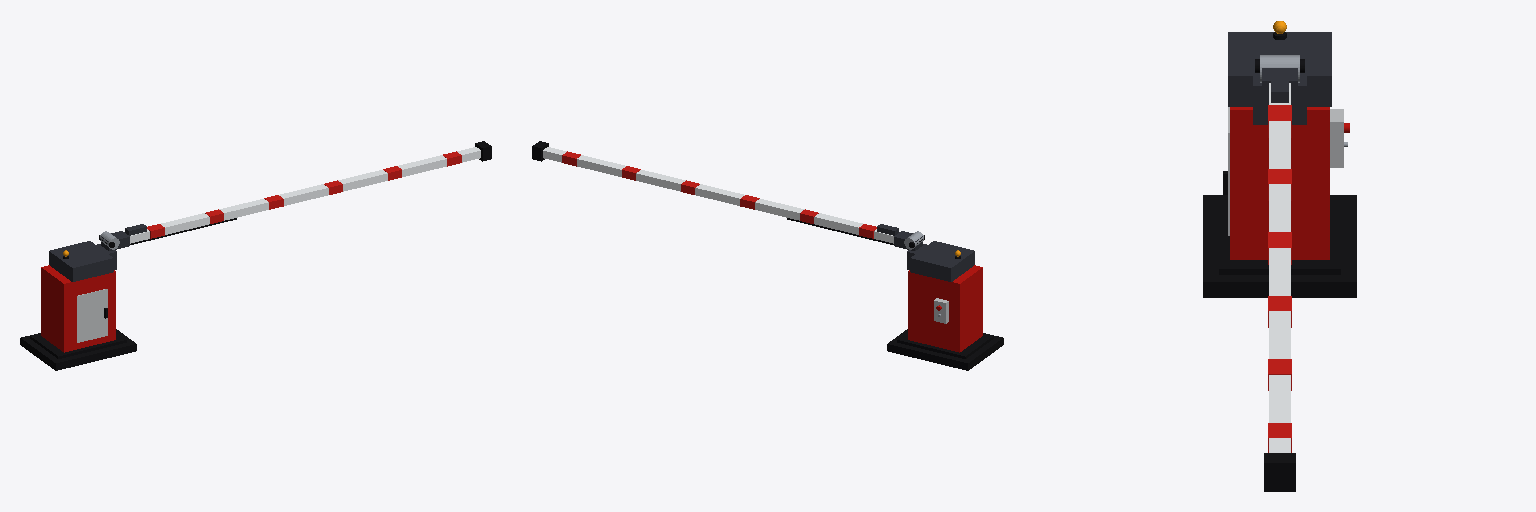
URDF robot description (barrier_gate):
<robot name="barrier_gate">
  <link name="base_housing">
    <inertial>
      <origin xyz="0 0 0.495" rpy="0 0 0" />
      <mass value="135" />
      <inertia ixx="16.2281" ixy="0" ixz="0" iyy="20.1386" iyz="0" izz="14.3145" />
      </inertial>
    <visual name="ground_plinth">
      <origin xyz="0 0 0.04" rpy="0 0 0" />
      <geometry>
        <box size="0.9 0.68 0.08" />
        </geometry>
      <material name="rubber_black">
        <color rgba="0.1 0.1 0.11 1" />
        </material>
      </visual>
    <visual name="lower_skirt">
      <origin xyz="0 0 0.095" rpy="0 0 0" />
      <geometry>
        <box size="0.76 0.54 0.03" />
        </geometry>
      <material name="rubber_black">
        <color rgba="0.1 0.1 0.11 1" />
        </material>
      </visual>
    <visual name="main_cabinet">
      <origin xyz="0 0 0.475" rpy="0 0 0" />
      <geometry>
        <box size="0.58 0.44 0.73" />
        </geometry>
      <material name="cabinet_red">
        <color rgba="0.76 0.1 0.08 1" />
        </material>
      </visual>
    <visual name="top_motor_cover">
      <origin xyz="0.03 0 0.915" rpy="0 0 0" />
      <geometry>
        <box size="0.46 0.46 0.15" />
        </geometry>
      <material name="cover_gray">
        <color rgba="0.23 0.24 0.27 1" />
        </material>
      </visual>
    <visual name="hinge_pedestal">
      <origin xyz="0.29 0 0.895" rpy="0 0 0" />
      <geometry>
        <box size="0.14 0.24 0.19" />
        </geometry>
      <material name="cover_gray">
        <color rgba="0.23 0.24 0.27 1" />
        </material>
      </visual>
    <visual name="service_door">
      <origin xyz="0.02 -0.224 0.43" rpy="0 0 0" />
      <geometry>
        <box size="0.34 0.008 0.5" />
        </geometry>
      <material name="control_gray">
        <color rgba="0.78 0.79 0.8 1" />
        </material>
      </visual>
    <visual name="door_handle">
      <origin xyz="0.17 -0.239 0.43" rpy="0 0 0" />
      <geometry>
        <box size="0.03 0.026 0.1" />
        </geometry>
      <material name="rubber_black">
        <color rgba="0.1 0.1 0.11 1" />
        </material>
      </visual>
    <visual name="control_pod">
      <origin xyz="-0.1 0.25 0.52" rpy="0 0 0" />
      <geometry>
        <box size="0.14 0.06 0.22" />
        </geometry>
      <material name="control_gray">
        <color rgba="0.78 0.79 0.8 1" />
        </material>
      </visual>
    <visual name="emergency_stop">
      <origin xyz="-0.1 0.295 0.57" rpy="1.5708 0 0" />
      <geometry>
        <cylinder radius="0.022" length="0.03" />
        </geometry>
      <material name="cabinet_red">
        <color rgba="0.76 0.1 0.08 1" />
        </material>
      </visual>
    <visual name="key_switch">
      <origin xyz="-0.1 0.29 0.49" rpy="1.5708 0 0" />
      <geometry>
        <cylinder radius="0.012" length="0.02" />
        </geometry>
      <material name="steel">
        <color rgba="0.63 0.65 0.68 1" />
        </material>
      </visual>
    <visual name="beacon_base">
      <origin xyz="-0.14 0 1" rpy="0 0 0" />
      <geometry>
        <cylinder radius="0.03" length="0.02" />
        </geometry>
      <material name="rubber_black">
        <color rgba="0.1 0.1 0.11 1" />
        </material>
      </visual>
    <visual name="beacon_lens">
      <origin xyz="-0.14 0 1.04" rpy="0 0 0" />
      <geometry>
        <sphere radius="0.03" />
        </geometry>
      <material name="amber_lens">
        <color rgba="0.95 0.62 0.1 0.72" />
        </material>
      </visual>
    <collision name="base_housing__ground_plinth">
      <origin xyz="0 0 0.04" rpy="0 0 0" />
      <geometry>
        <box size="0.9 0.68 0.08" />
        </geometry>
      </collision>
    <collision name="base_housing__lower_skirt">
      <origin xyz="0 0 0.095" rpy="0 0 0" />
      <geometry>
        <box size="0.76 0.54 0.03" />
        </geometry>
      </collision>
    <collision name="base_housing__main_cabinet">
      <origin xyz="0 0 0.475" rpy="0 0 0" />
      <geometry>
        <box size="0.58 0.44 0.73" />
        </geometry>
      </collision>
    <collision name="base_housing__top_motor_cover">
      <origin xyz="0.03 0 0.915" rpy="0 0 0" />
      <geometry>
        <box size="0.46 0.46 0.15" />
        </geometry>
      </collision>
    <collision name="base_housing__hinge_pedestal">
      <origin xyz="0.29 0 0.895" rpy="0 0 0" />
      <geometry>
        <box size="0.14 0.24 0.19" />
        </geometry>
      </collision>
    <collision name="base_housing__service_door">
      <origin xyz="0.02 -0.224 0.43" rpy="0 0 0" />
      <geometry>
        <box size="0.34 0.008 0.5" />
        </geometry>
      </collision>
    <collision name="base_housing__door_handle">
      <origin xyz="0.17 -0.239 0.43" rpy="0 0 0" />
      <geometry>
        <box size="0.03 0.026 0.1" />
        </geometry>
      </collision>
    <collision name="base_housing__control_pod">
      <origin xyz="-0.1 0.25 0.52" rpy="0 0 0" />
      <geometry>
        <box size="0.14 0.06 0.22" />
        </geometry>
      </collision>
    <collision name="base_housing__emergency_stop">
      <origin xyz="-0.1 0.295 0.57" rpy="1.5708 0 0" />
      <geometry>
        <cylinder radius="0.022" length="0.03" />
        </geometry>
      </collision>
    <collision name="base_housing__key_switch">
      <origin xyz="-0.1 0.29 0.49" rpy="1.5708 0 0" />
      <geometry>
        <cylinder radius="0.012" length="0.02" />
        </geometry>
      </collision>
    <collision name="base_housing__beacon_base">
      <origin xyz="-0.14 0 1" rpy="0 0 0" />
      <geometry>
        <cylinder radius="0.03" length="0.02" />
        </geometry>
      </collision>
    <collision name="base_housing__beacon_lens">
      <origin xyz="-0.14 0 1.04" rpy="0 0 0" />
      <geometry>
        <sphere radius="0.03" />
        </geometry>
      </collision>
    </link>
  <link name="gate_arm">
    <inertial>
      <origin xyz="2.13 0 0.06" rpy="0 0 0" />
      <mass value="18" />
      <inertia ixx="0.087" ixy="0" ixz="0" iyy="27.2598" iyz="0" izz="27.27" />
      </inertial>
    <visual name="hinge_head">
      <origin xyz="0.12 0 0.054" rpy="0 0 0" />
      <geometry>
        <box size="0.24 0.16 0.1" />
        </geometry>
      <material name="cover_gray">
        <color rgba="0.23 0.24 0.27 1" />
        </material>
      </visual>
    <visual name="pivot_drum">
      <origin xyz="0.055 0 0.074" rpy="1.5708 0 0" />
      <geometry>
        <cylinder radius="0.06" length="0.18" />
        </geometry>
      <material name="steel">
        <color rgba="0.63 0.65 0.68 1" />
        </material>
      </visual>
    <visual name="pivot_cap">
      <origin xyz="0.025 0 0.074" rpy="1.5708 0 0" />
      <geometry>
        <cylinder radius="0.03" length="0.22" />
        </geometry>
      <material name="rubber_black">
        <color rgba="0.1 0.1 0.11 1" />
        </material>
      </visual>
    <visual name="main_boom">
      <origin xyz="2.2 0 0.054" rpy="0 0 0" />
      <geometry>
        <box size="3.92 0.1 0.08" />
        </geometry>
      <material name="arm_white">
        <color rgba="0.93 0.94 0.95 1" />
        </material>
      </visual>
    <visual name="underslung_reinforcement">
      <origin xyz="0.86 0 0.002" rpy="0 0 0" />
      <geometry>
        <box size="1.2 0.05 0.04" />
        </geometry>
      <material name="rubber_black">
        <color rgba="0.1 0.1 0.11 1" />
        </material>
      </visual>
    <visual name="drive_cowl">
      <origin xyz="0.35 0 0.119" rpy="0 0 0" />
      <geometry>
        <box size="0.2 0.08 0.052" />
        </geometry>
      <material name="cover_gray">
        <color rgba="0.23 0.24 0.27 1" />
        </material>
      </visual>
    <visual name="stripe_1">
      <origin xyz="0.56 0 0.054" rpy="0 0 0" />
      <geometry>
        <box size="0.16 0.104 0.082" />
        </geometry>
      <material name="stripe_red">
        <color rgba="0.82 0.14 0.12 1" />
        </material>
      </visual>
    <visual name="stripe_2">
      <origin xyz="1.22 0 0.054" rpy="0 0 0" />
      <geometry>
        <box size="0.16 0.104 0.082" />
        </geometry>
      <material name="stripe_red">
        <color rgba="0.82 0.14 0.12 1" />
        </material>
      </visual>
    <visual name="stripe_3">
      <origin xyz="1.88 0 0.054" rpy="0 0 0" />
      <geometry>
        <box size="0.16 0.104 0.082" />
        </geometry>
      <material name="stripe_red">
        <color rgba="0.82 0.14 0.12 1" />
        </material>
      </visual>
    <visual name="stripe_4">
      <origin xyz="2.54 0 0.054" rpy="0 0 0" />
      <geometry>
        <box size="0.16 0.104 0.082" />
        </geometry>
      <material name="stripe_red">
        <color rgba="0.82 0.14 0.12 1" />
        </material>
      </visual>
    <visual name="stripe_5">
      <origin xyz="3.2 0 0.054" rpy="0 0 0" />
      <geometry>
        <box size="0.16 0.104 0.082" />
        </geometry>
      <material name="stripe_red">
        <color rgba="0.82 0.14 0.12 1" />
        </material>
      </visual>
    <visual name="stripe_6">
      <origin xyz="3.86 0 0.054" rpy="0 0 0" />
      <geometry>
        <box size="0.16 0.104 0.082" />
        </geometry>
      <material name="stripe_red">
        <color rgba="0.82 0.14 0.12 1" />
        </material>
      </visual>
    <visual name="tip_cap">
      <origin xyz="4.21 0 0.054" rpy="0 0 0" />
      <geometry>
        <box size="0.1 0.14 0.14" />
        </geometry>
      <material name="rubber_black">
        <color rgba="0.1 0.1 0.11 1" />
        </material>
      </visual>
    <visual name="tip_light_housing">
      <origin xyz="4.19 0 0.005" rpy="0 0 0" />
      <geometry>
        <box size="0.06 0.12 0.05" />
        </geometry>
      <material name="rubber_black">
        <color rgba="0.1 0.1 0.11 1" />
        </material>
      </visual>
    <collision name="gate_arm__hinge_head">
      <origin xyz="0.12 0 0.054" rpy="0 0 0" />
      <geometry>
        <box size="0.24 0.16 0.1" />
        </geometry>
      </collision>
    <collision name="gate_arm__pivot_drum">
      <origin xyz="0.055 0 0.074" rpy="1.5708 0 0" />
      <geometry>
        <cylinder radius="0.06" length="0.18" />
        </geometry>
      </collision>
    <collision name="gate_arm__pivot_cap">
      <origin xyz="0.025 0 0.074" rpy="1.5708 0 0" />
      <geometry>
        <cylinder radius="0.03" length="0.22" />
        </geometry>
      </collision>
    <collision name="gate_arm__main_boom">
      <origin xyz="2.2 0 0.054" rpy="0 0 0" />
      <geometry>
        <box size="3.92 0.1 0.08" />
        </geometry>
      </collision>
    <collision name="gate_arm__underslung_reinforcement">
      <origin xyz="0.86 0 0.002" rpy="0 0 0" />
      <geometry>
        <box size="1.2 0.05 0.04" />
        </geometry>
      </collision>
    <collision name="gate_arm__drive_cowl">
      <origin xyz="0.35 0 0.119" rpy="0 0 0" />
      <geometry>
        <box size="0.2 0.08 0.052" />
        </geometry>
      </collision>
    <collision name="gate_arm__stripe_1">
      <origin xyz="0.56 0 0.054" rpy="0 0 0" />
      <geometry>
        <box size="0.16 0.104 0.082" />
        </geometry>
      </collision>
    <collision name="gate_arm__stripe_2">
      <origin xyz="1.22 0 0.054" rpy="0 0 0" />
      <geometry>
        <box size="0.16 0.104 0.082" />
        </geometry>
      </collision>
    <collision name="gate_arm__stripe_3">
      <origin xyz="1.88 0 0.054" rpy="0 0 0" />
      <geometry>
        <box size="0.16 0.104 0.082" />
        </geometry>
      </collision>
    <collision name="gate_arm__stripe_4">
      <origin xyz="2.54 0 0.054" rpy="0 0 0" />
      <geometry>
        <box size="0.16 0.104 0.082" />
        </geometry>
      </collision>
    <collision name="gate_arm__stripe_5">
      <origin xyz="3.2 0 0.054" rpy="0 0 0" />
      <geometry>
        <box size="0.16 0.104 0.082" />
        </geometry>
      </collision>
    <collision name="gate_arm__stripe_6">
      <origin xyz="3.86 0 0.054" rpy="0 0 0" />
      <geometry>
        <box size="0.16 0.104 0.082" />
        </geometry>
      </collision>
    <collision name="gate_arm__tip_cap">
      <origin xyz="4.21 0 0.054" rpy="0 0 0" />
      <geometry>
        <box size="0.1 0.14 0.14" />
        </geometry>
      </collision>
    <collision name="gate_arm__tip_light_housing">
      <origin xyz="4.19 0 0.005" rpy="0 0 0" />
      <geometry>
        <box size="0.06 0.12 0.05" />
        </geometry>
      </collision>
    </link>
  <joint name="arm_hinge" type="revolute">
    <origin xyz="0.29 0 0.99" rpy="0 0 0" />
    <parent link="base_housing" />
    <child link="gate_arm" />
    <axis xyz="0 -1 0" />
    <limit effort="220" velocity="1.2" lower="0" upper="1.35" />
    </joint>
  </robot>

--- What the picture shows (computed from the rendered views, not written in the file) ---
3 views of the same robot in one strip: view 1: azimuth 30°, elevation 25°; view 2: azimuth 150°, elevation 25°; view 3: azimuth 270°, elevation 25° (orthographic).
Model barrier_gate with 2 links and 1 joints (1 revolute), rooted at base_housing, posed every joint at zero.
Links seen in each view (by area): view 1: base_housing, gate_arm; view 2: base_housing, gate_arm; view 3: base_housing, gate_arm.
Link boxes in pixels (box(x1,y1,x2,y2)): base_housing: box(20, 241, 136, 370); gate_arm: box(99, 141, 491, 250); base_housing: box(887, 241, 1003, 370); gate_arm: box(532, 141, 924, 250); base_housing: box(1203, 21, 1356, 297); gate_arm: box(1255, 55, 1304, 491).
Size in the robot's own frame: 5 by 0.68 by 1.14 metres.
Geometry: primitives only (box / cylinder / sphere), no mesh files.
